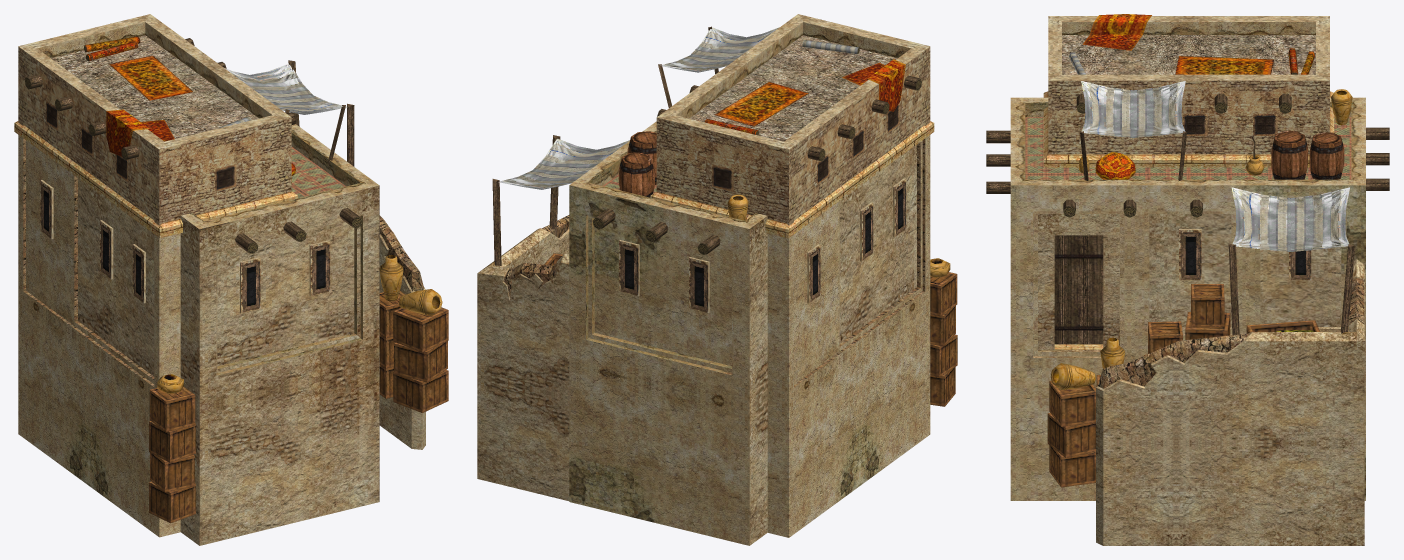
The model's file is pers_house_c.glb.
3 views of the same model, side by side, from view 1: azimuth 30°, elevation 25°; view 2: azimuth 150°, elevation 25°; view 3: azimuth 270°, elevation 25° (orthographic).
Bounding box in the file's own units: 13.54 × 16.25 × 15.3.
Materials: 1 (1 with a texture image).
